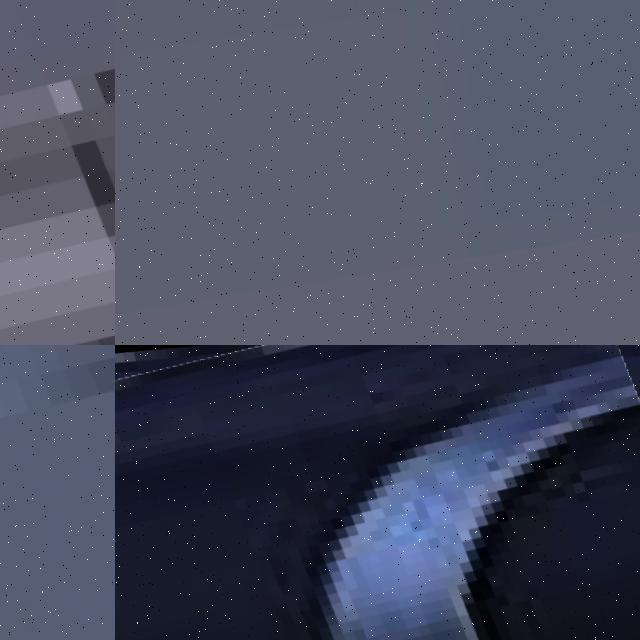drone: (115, 345, 640, 640), (0, 0, 115, 345), (0, 345, 115, 640)
